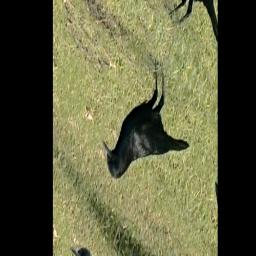Crow: (97, 28, 199, 244)
